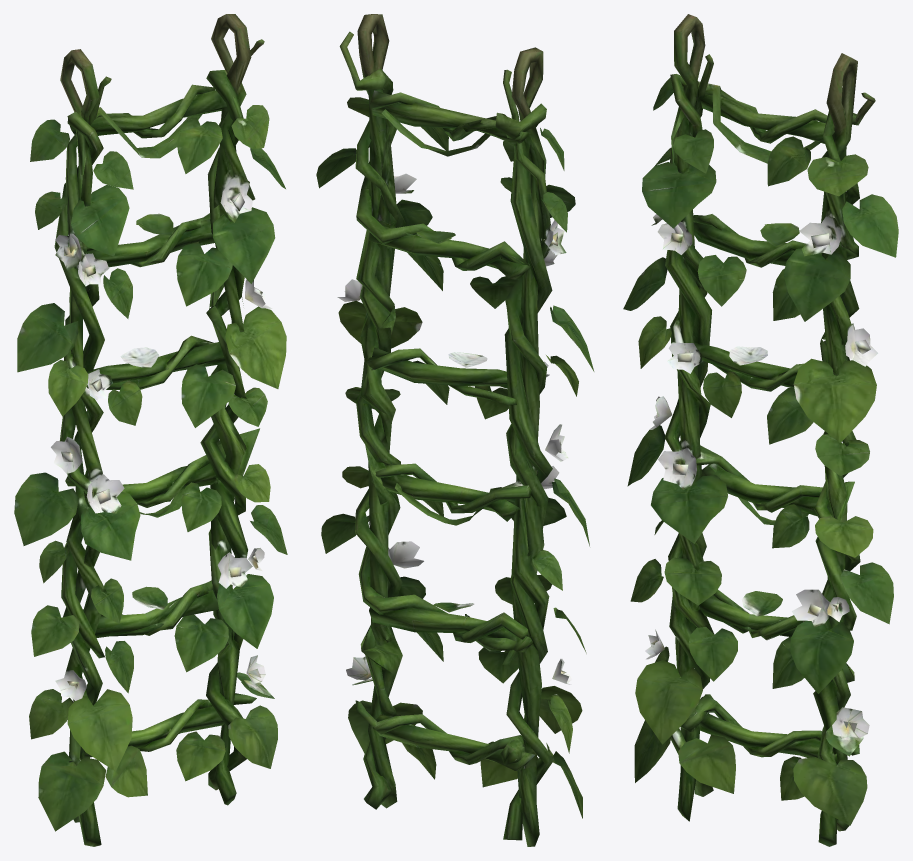
The model's file is vine.glb.
The picture shows the model from 3 angles, left to right: view 1: azimuth 30°, elevation 25°; view 2: azimuth 150°, elevation 25°; view 3: azimuth 330°, elevation 25°; orthographic projection.
Bounding box in the file's own units: 0.3571 × 1 × 0.1093.
Materials: 1 (1 with a texture image).
